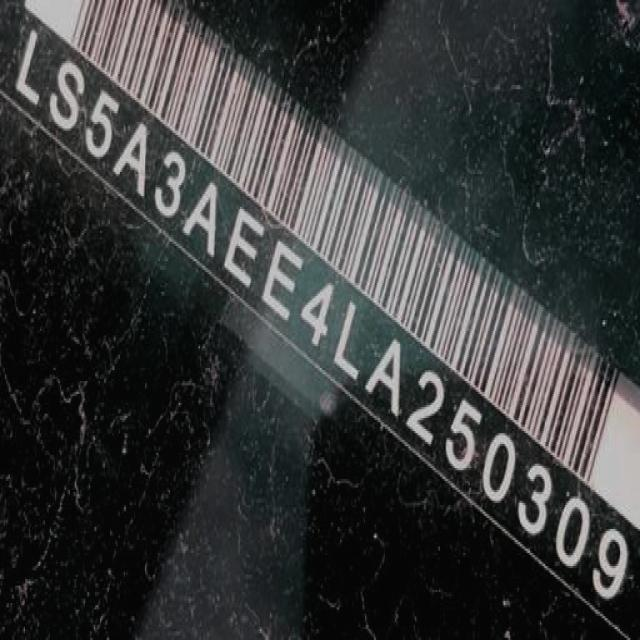0: (556, 493, 589, 569), (484, 434, 514, 505)
2: (406, 370, 447, 445)
3: (515, 462, 553, 542), (155, 151, 186, 221)
4: (301, 274, 333, 356)
5: (444, 395, 481, 479), (86, 77, 118, 162)
9: (592, 528, 632, 610)
A: (183, 177, 222, 263), (113, 114, 150, 202), (366, 330, 402, 418)
E: (260, 228, 302, 330), (222, 207, 262, 280)
L: (328, 297, 365, 383), (9, 25, 44, 110)
S: (49, 48, 85, 137)
